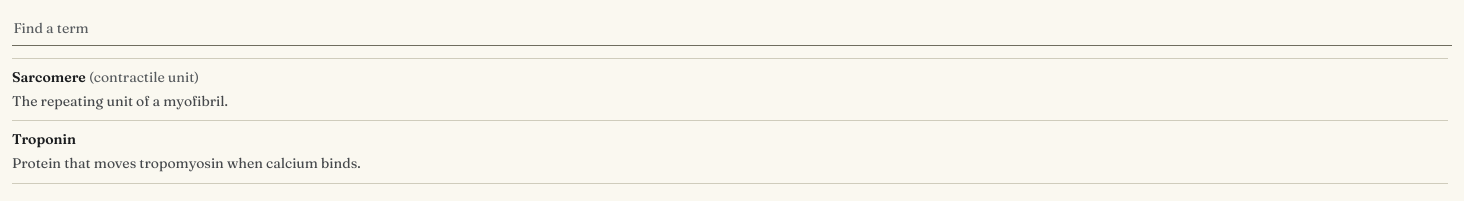
Scenario: SessionGlossary › lists every term with its meaning, and finds one by any word
Expected: the text "Troponin" is shown, [12,130,76,148]
Expected: the text "The repeating unit of a myofibril." is shown, [12,92,228,110]
Type "calcium" into the search field with placeholder "Find a term". click: [732, 29]
box: [12,12,1452,46]
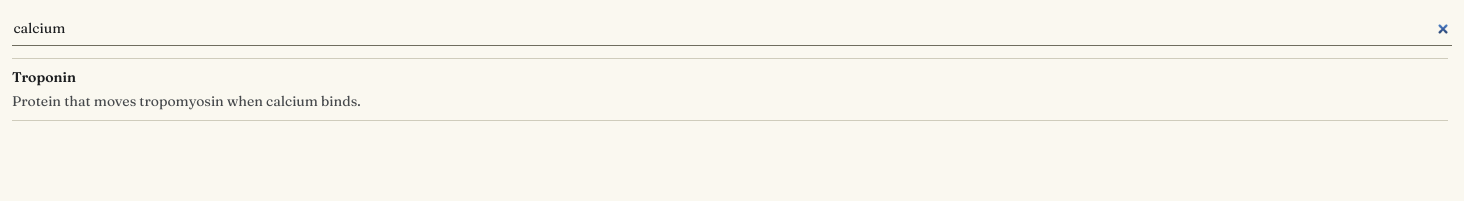
Expected: the text "Troponin" is shown, [12,68,76,86]
Expected: the text "Sarcomere" is gone
Replace the text in the search field with placeholder "Find a term" with "zzz". click: [732, 29]
box: [12,12,1452,46]
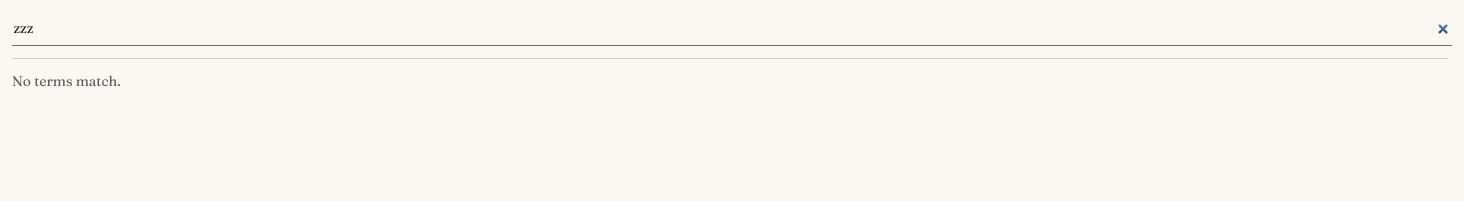
Expected: the text "No terms match." is shown, [12,72,121,90]
